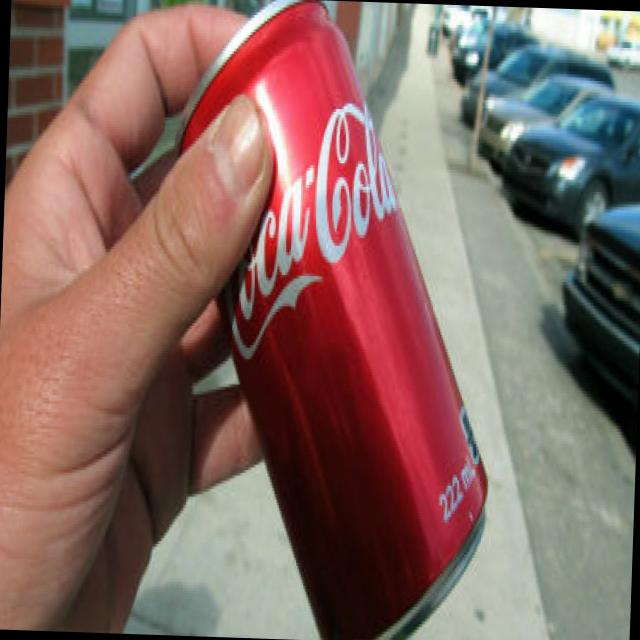cocacola: (154, 4, 525, 640)
